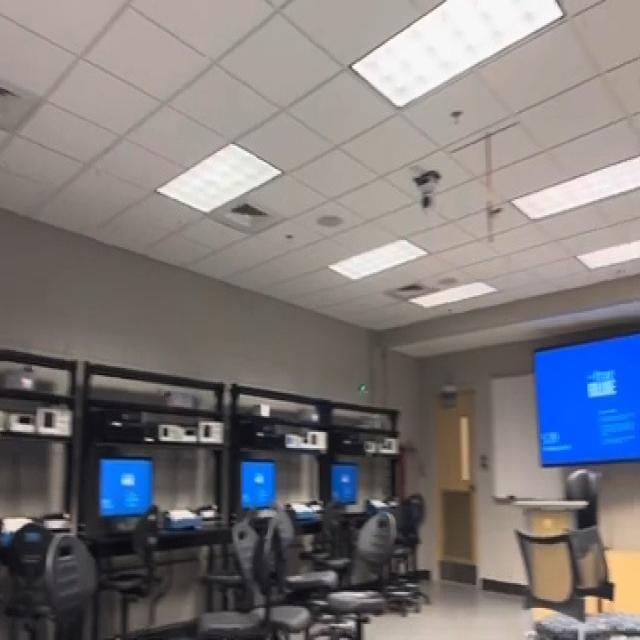drone: (346, 365, 376, 406)
